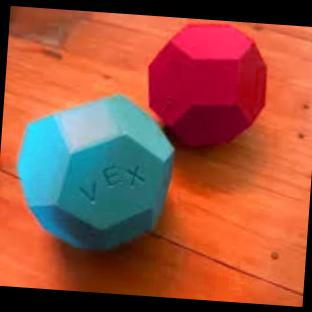V5_BLUE: (16, 94, 172, 248)
V5_RED: (148, 23, 266, 145)
